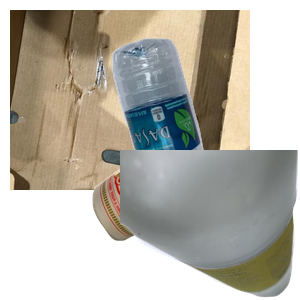cardboard: (10, 10, 250, 190)
glass: (120, 150, 300, 300)
plastic: (110, 36, 300, 216)
trash: (90, 129, 295, 300)
